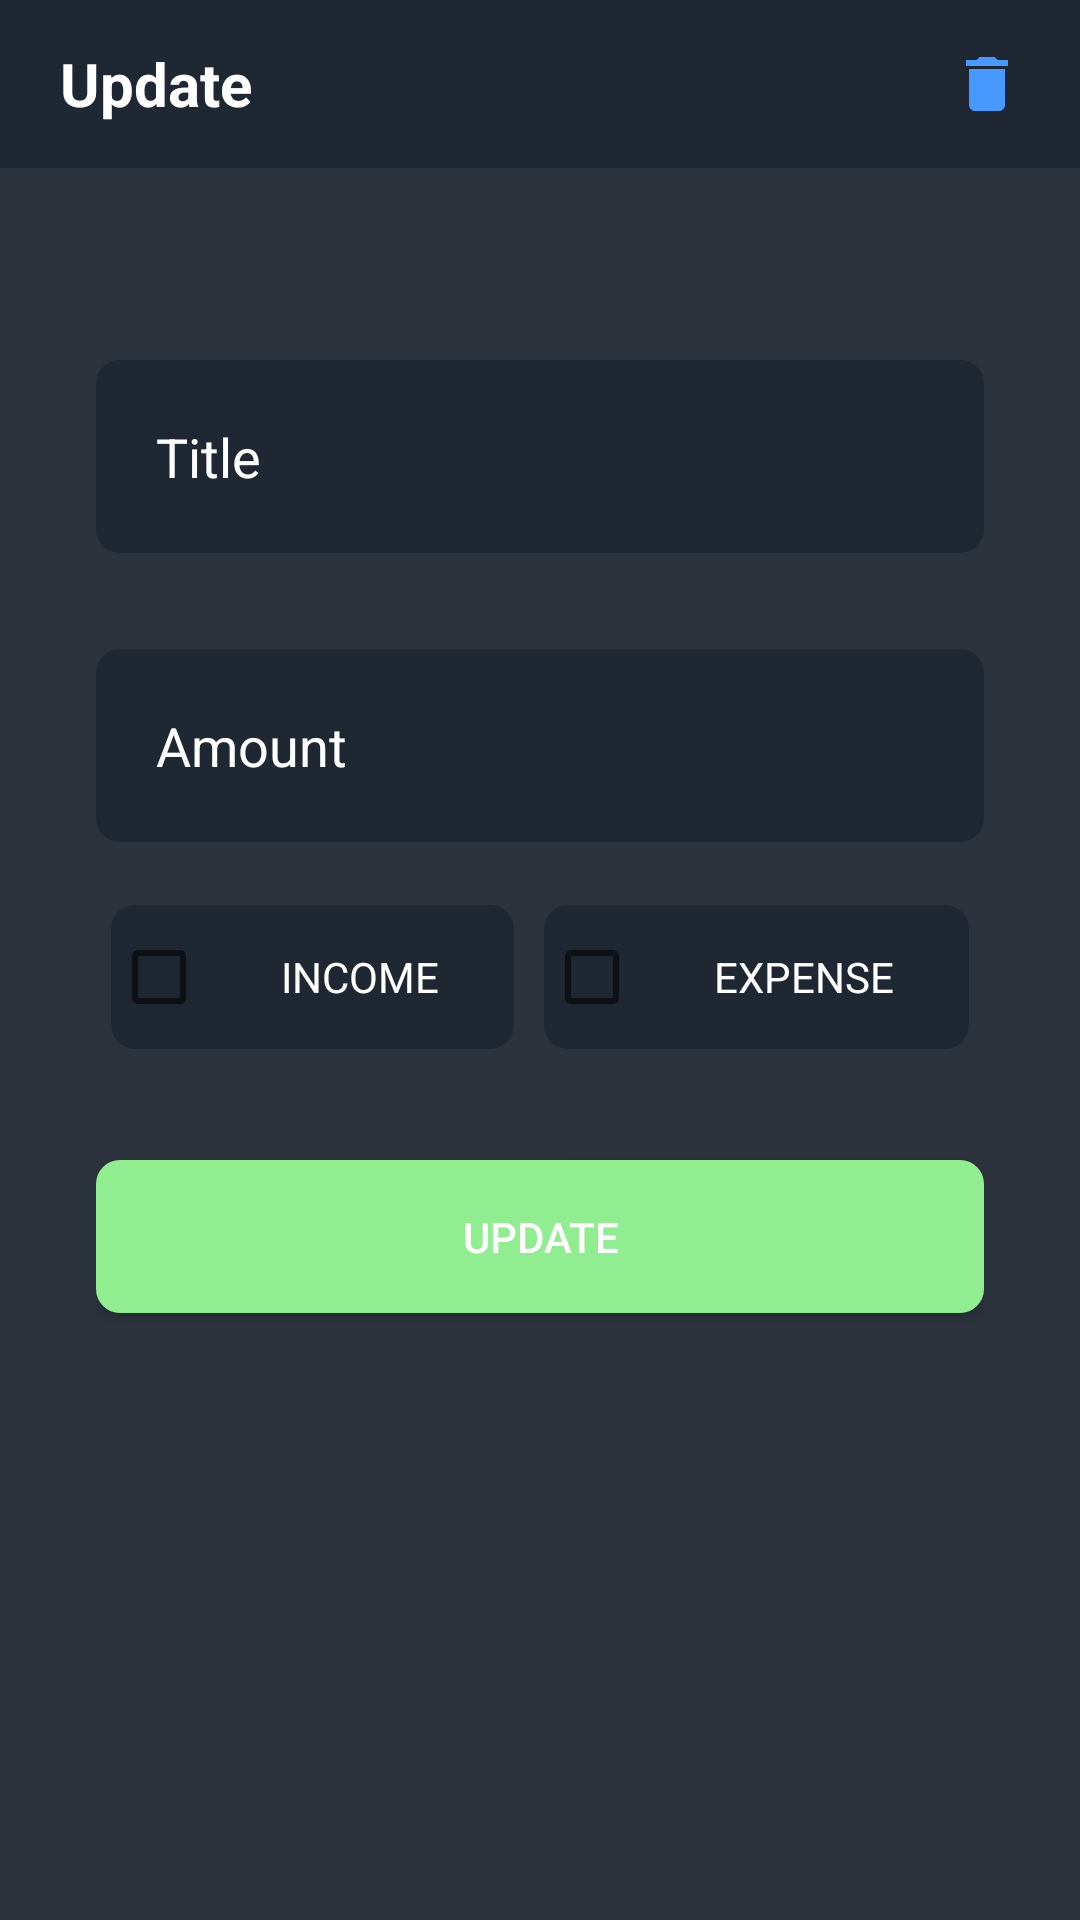

Where icons sit on this 1080w x 1920h app screen, as rect(x1, y1, x2, y2):
Delete: rect(966, 57, 1008, 111)
